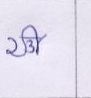i_matra: (26, 24, 45, 53)
